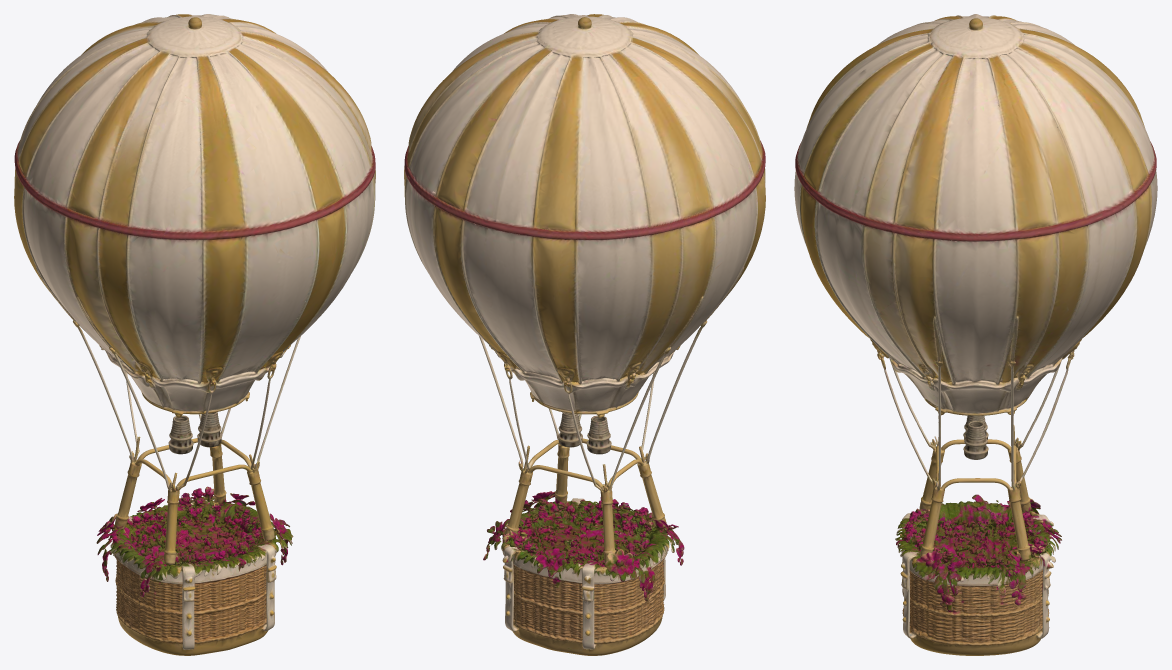
File: globo.glb
The picture shows the model from 3 angles, left to right: view 1: azimuth 30°, elevation 25°; view 2: azimuth 150°, elevation 25°; view 3: azimuth 270°, elevation 25°; orthographic projection.
Visible parts, largest first — view 1: Mesh_0; view 2: Mesh_0; view 3: Mesh_0.
Part boxes in pixels (x1,y1,x2,y2): Mesh_0: (14, 14, 375, 655); Mesh_0: (404, 14, 765, 655); Mesh_0: (794, 14, 1157, 655).
Bounding box in the file's own units: 1.03 × 1.9 × 1.03.
Materials: 1 (1 with a texture image).
